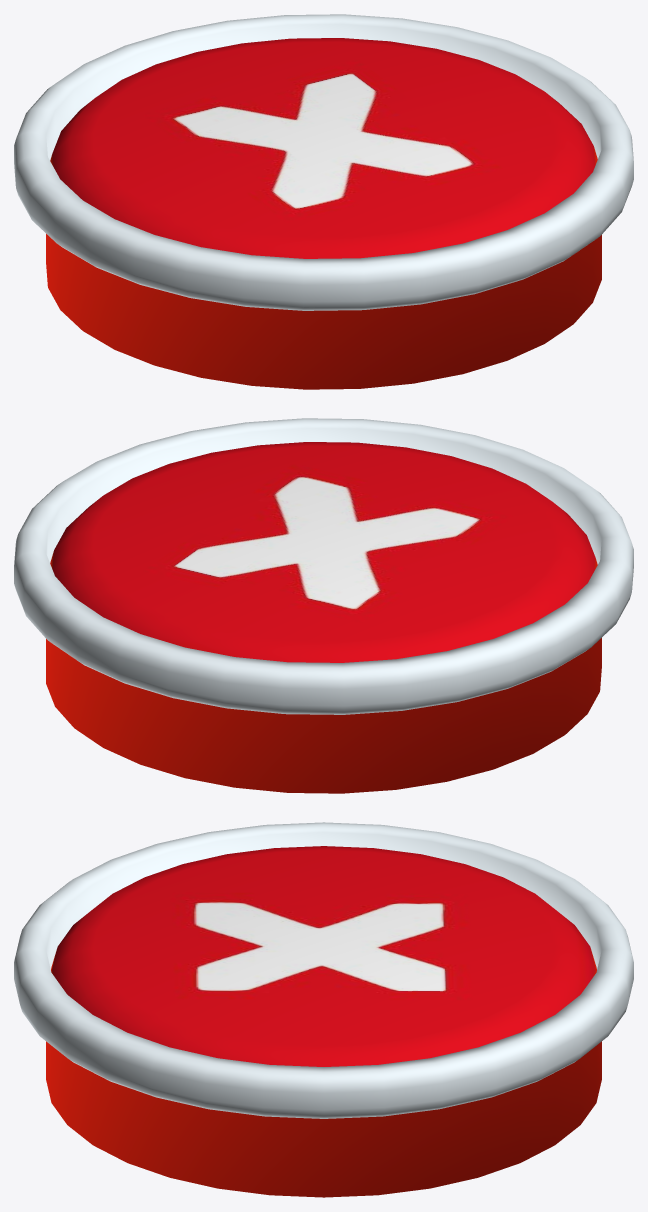
Rendered from Buton.fbx.
3 views of the same model, one above another, from view 1: azimuth 30°, elevation 25°; view 2: azimuth 150°, elevation 25°; view 3: azimuth 270°, elevation 25° (orthographic).
Visible parts, largest first — view 1: Buton; view 2: Buton; view 3: Buton.
Part boxes in pixels (box(x1,y1,x2,y2)): Buton: box(14, 14, 633, 389); Buton: box(14, 418, 633, 793); Buton: box(14, 822, 633, 1197).
Size of the model in its own units: 223 by 52.53 by 223.
Materials: 3 (1 with a texture image).
